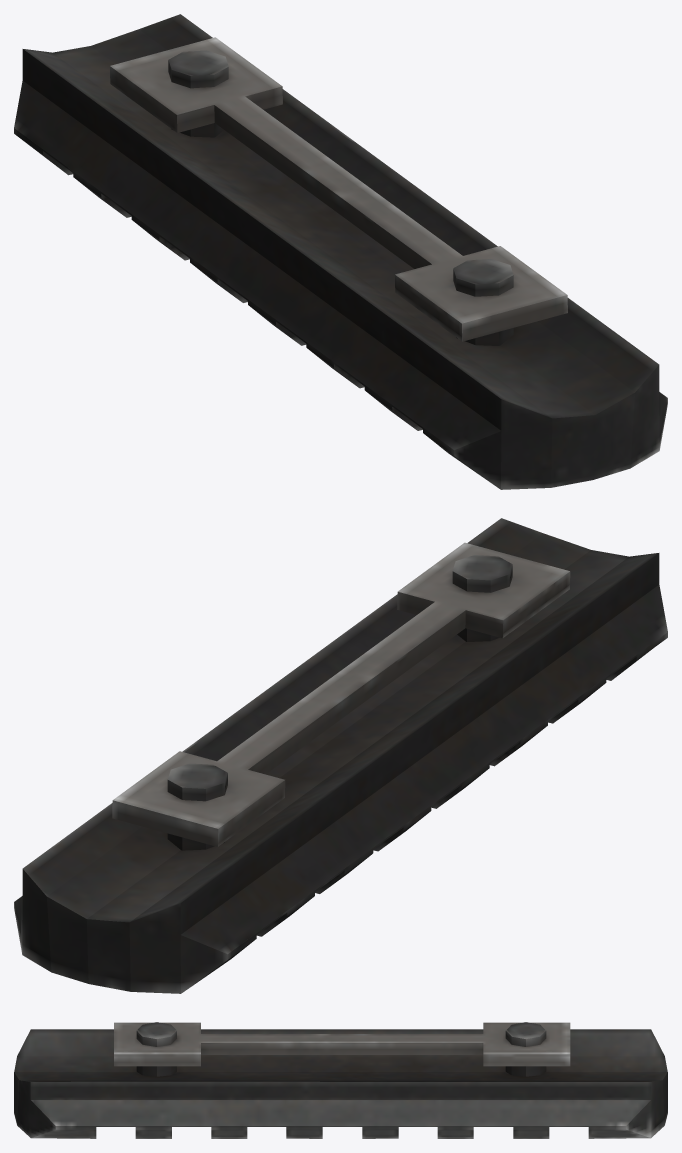
3 renders of one model, top to bottom at view 1: azimuth 30°, elevation 25°; view 2: azimuth 150°, elevation 25°; view 3: azimuth 270°, elevation 25°, orthographic. The views are drawn at different scales.
Visible parts, largest first — view 1: TW_6388c4478d895f557a0c6512_PZ_Import; view 2: TW_6388c4478d895f557a0c6512_PZ_Import; view 3: TW_6388c4478d895f557a0c6512_PZ_Import.
Part boxes in pixels (x1=…): TW_6388c4478d895f557a0c6512_PZ_Import: x1=14, y1=14, x2=667, y2=489; TW_6388c4478d895f557a0c6512_PZ_Import: x1=14, y1=518, x2=667, y2=993; TW_6388c4478d895f557a0c6512_PZ_Import: x1=14, y1=1022, x2=667, y2=1138.
Size of the model in its own units: 0.0123 by 0.0501 by 0.00699.
Materials: 1 (1 with a texture image).
